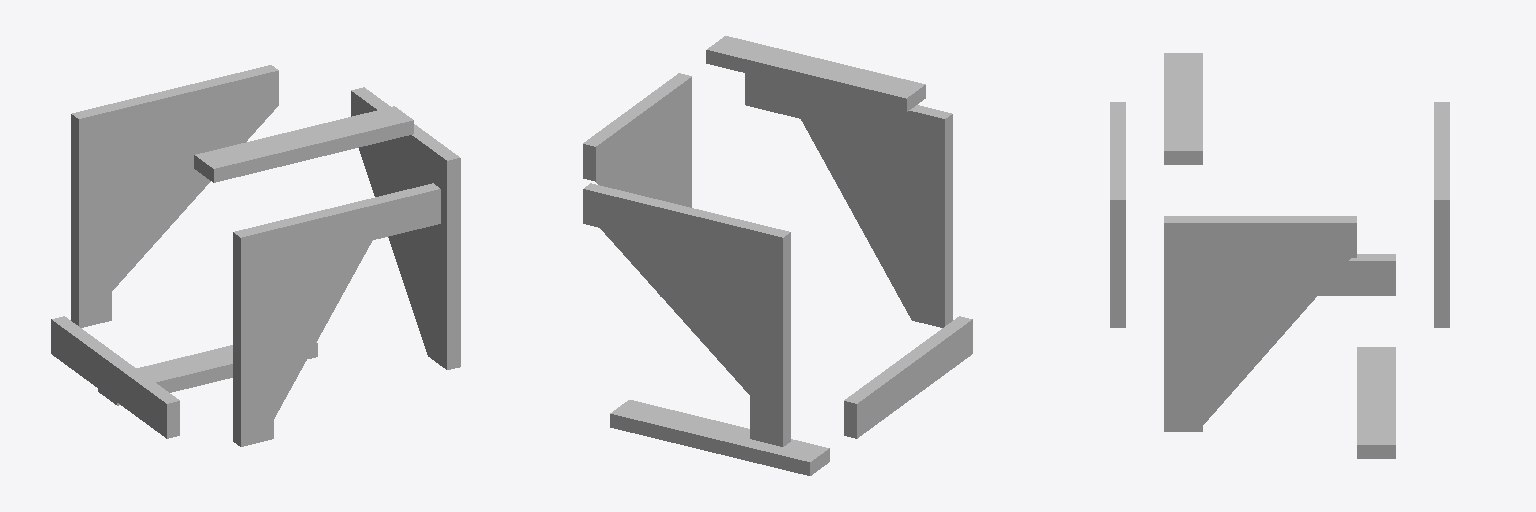
File: tron-block-neon.obj
3 renders of one model, left to right at view 1: azimuth 30°, elevation 25°; view 2: azimuth 150°, elevation 25°; view 3: azimuth 270°, elevation 25°, orthographic.
Parts seen in each view (by area): view 1: Cube; view 2: Cube; view 3: Cube.
Boxes of the visible parts, <box> form: Cube: <box>51,65,460,446</box>; Cube: <box>583,36,972,475</box>; Cube: <box>1110,53,1449,458</box>.
Bounding box in the file's own units: 2.2 × 2.2 × 2.2.